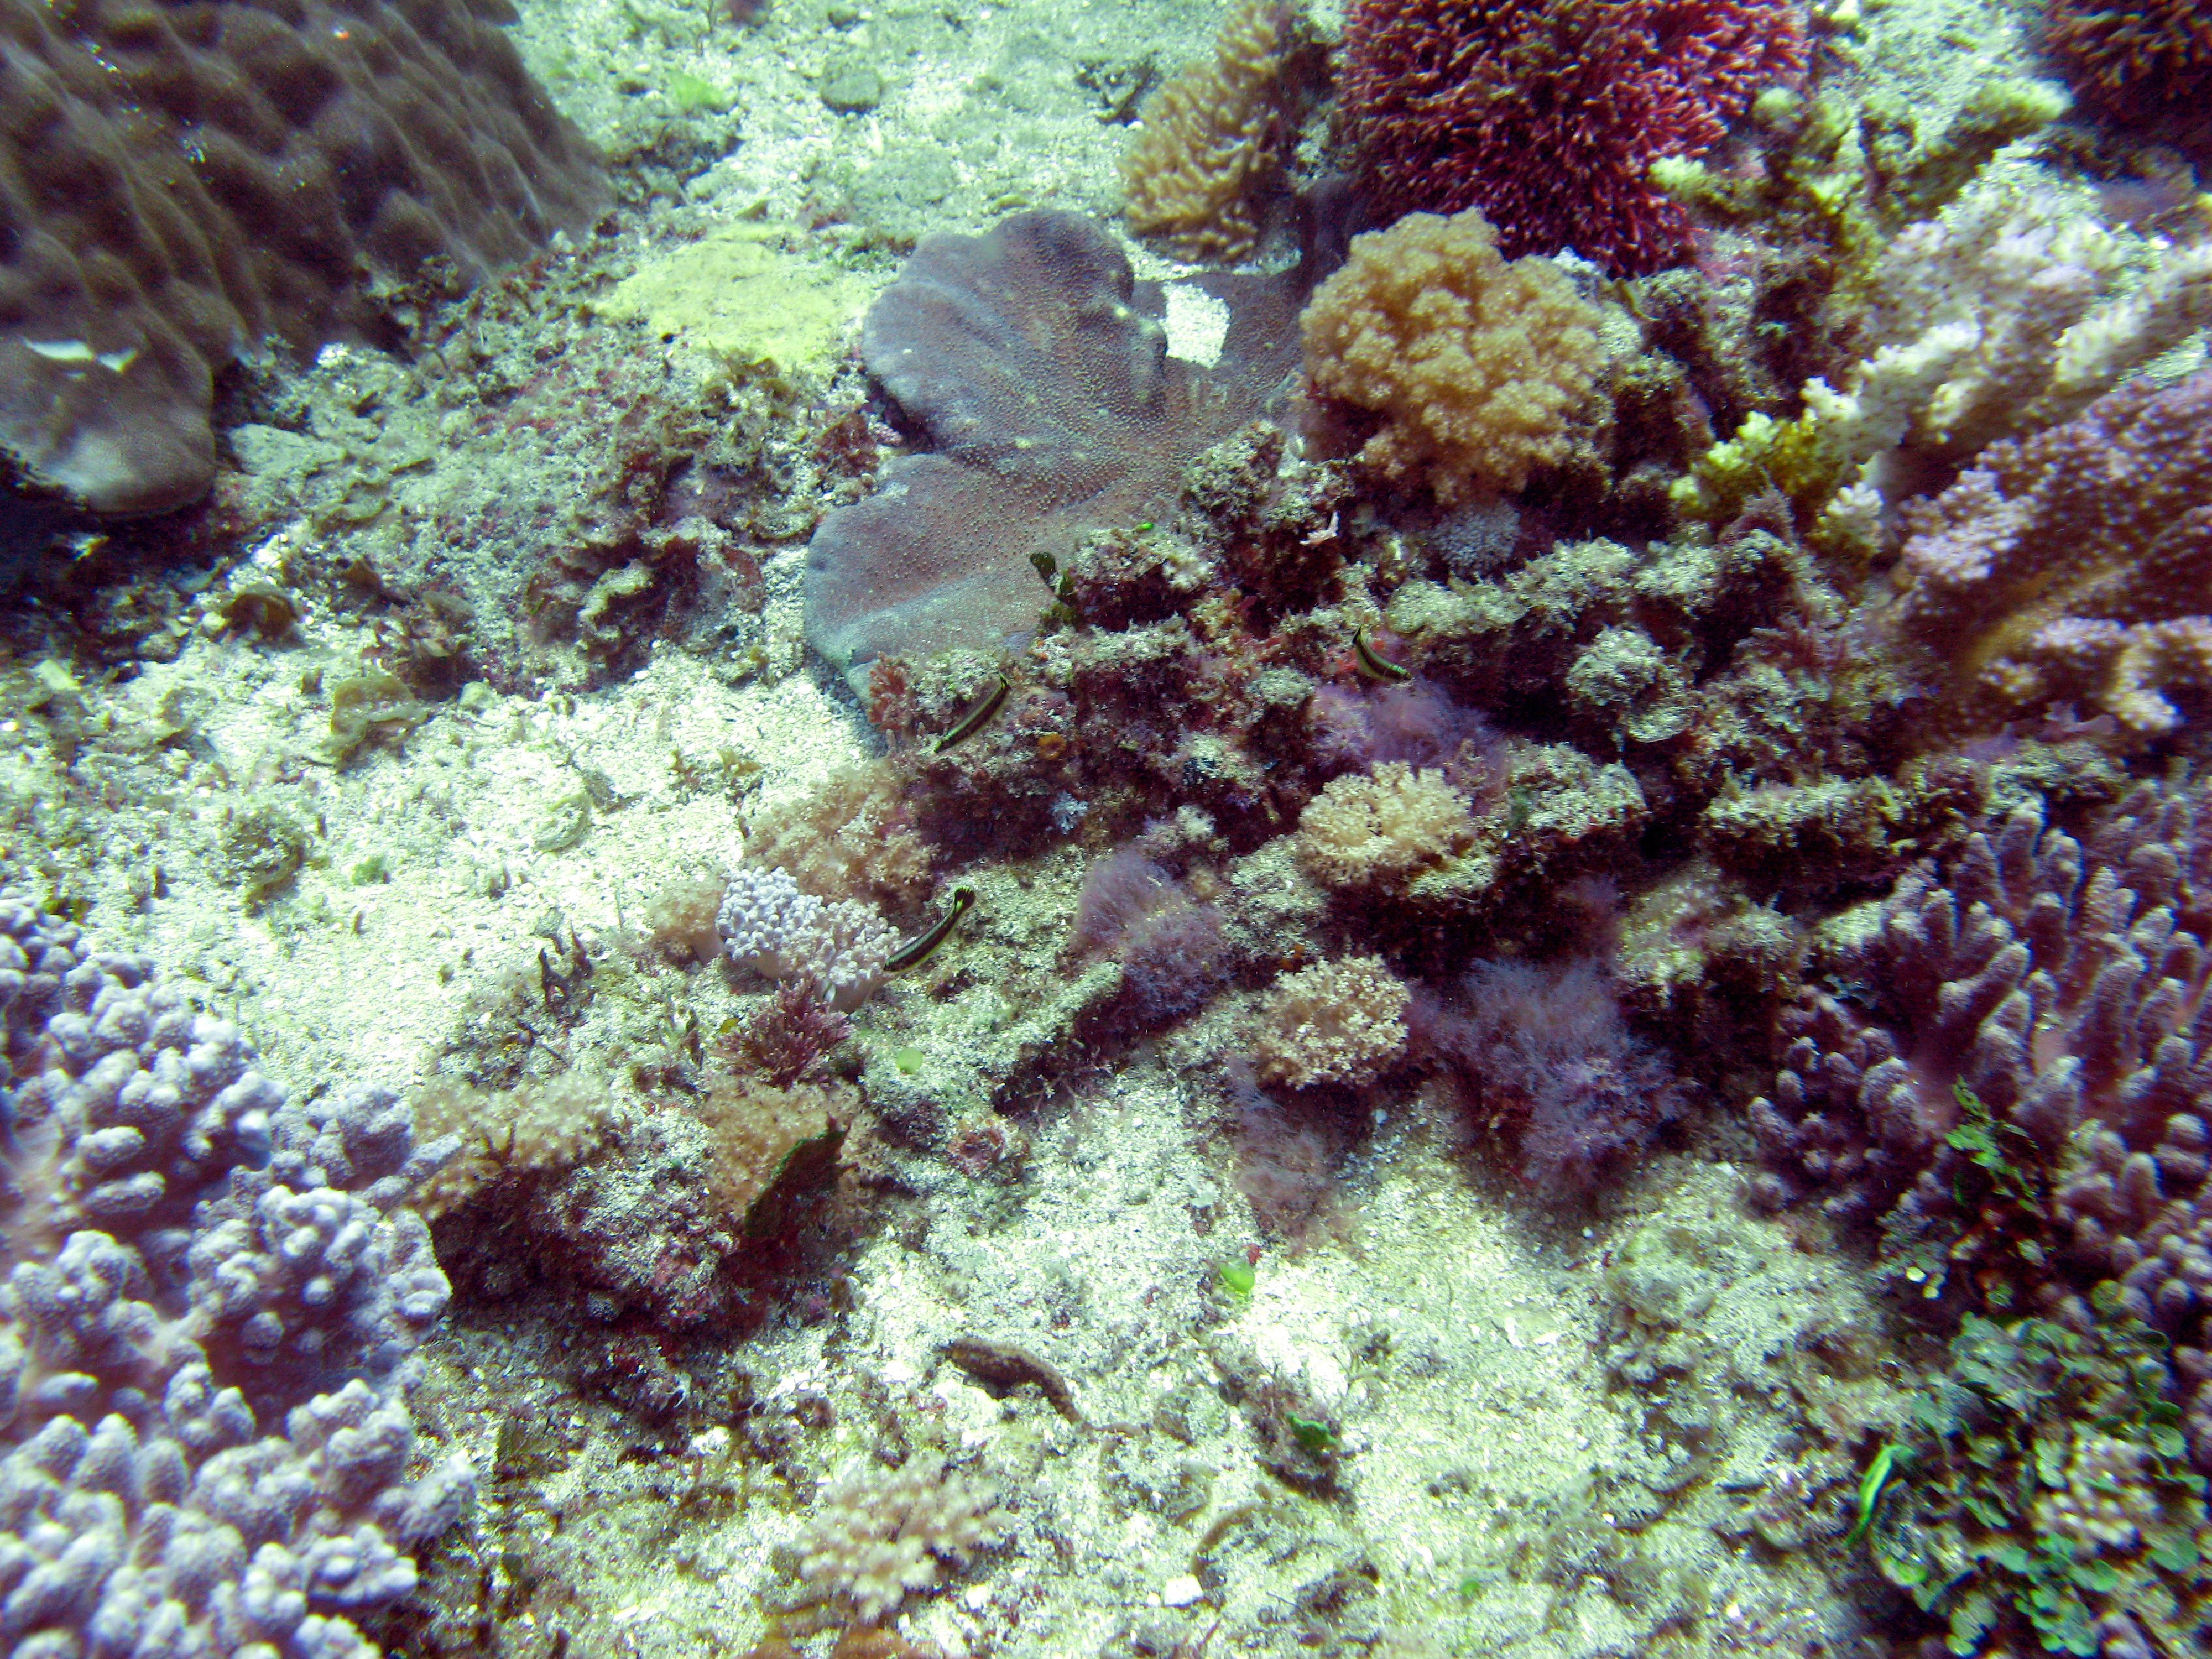Fish: (850, 863, 996, 1004), (1817, 1413, 1939, 1558), (916, 655, 1024, 779), (1331, 608, 1425, 709)
